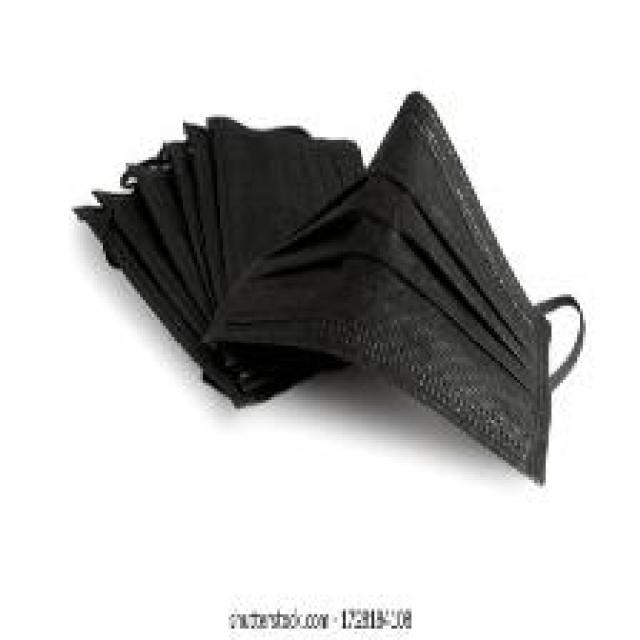Mask: (66, 140, 588, 513)
